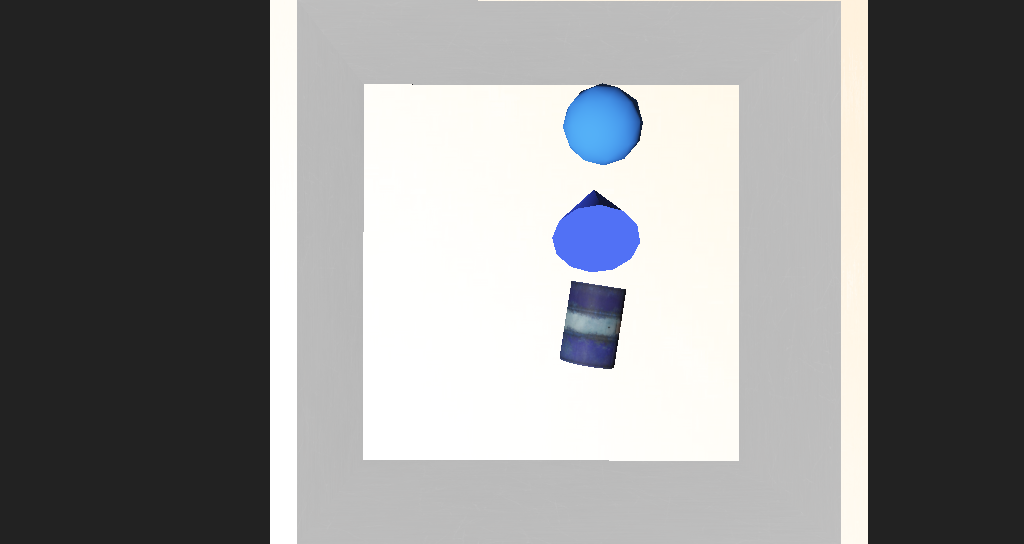cone: (512, 274, 566, 327)
cylinder: (492, 193, 586, 274)
sphere: (515, 165, 576, 208)
